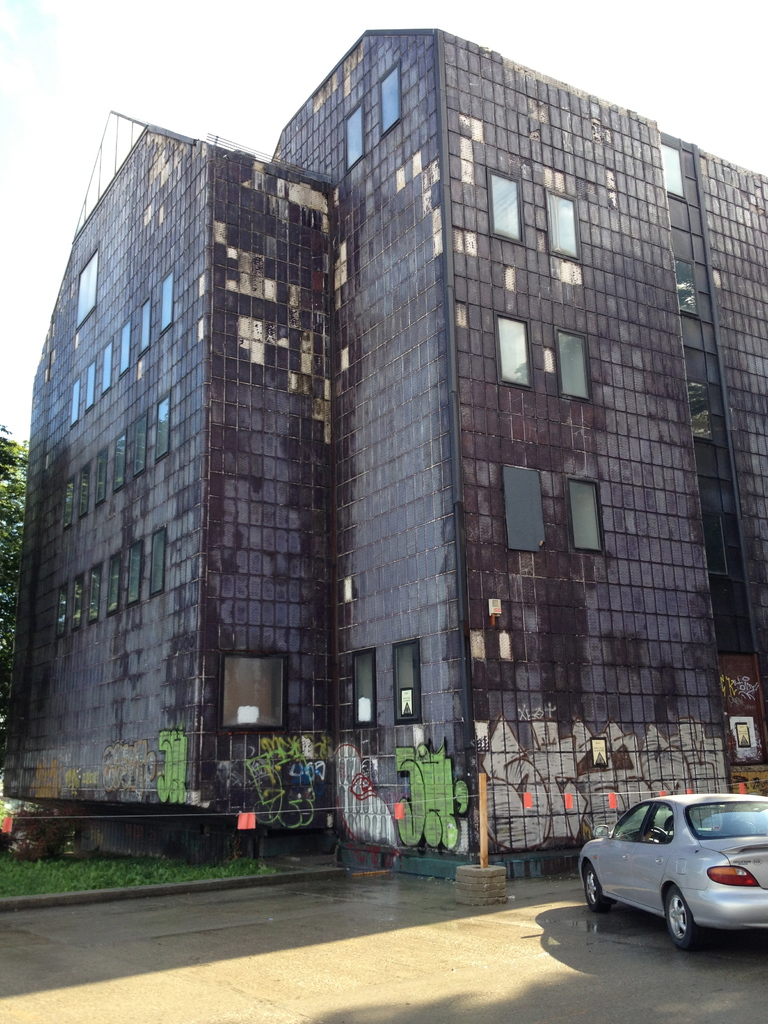Car: (575, 791, 767, 949)
